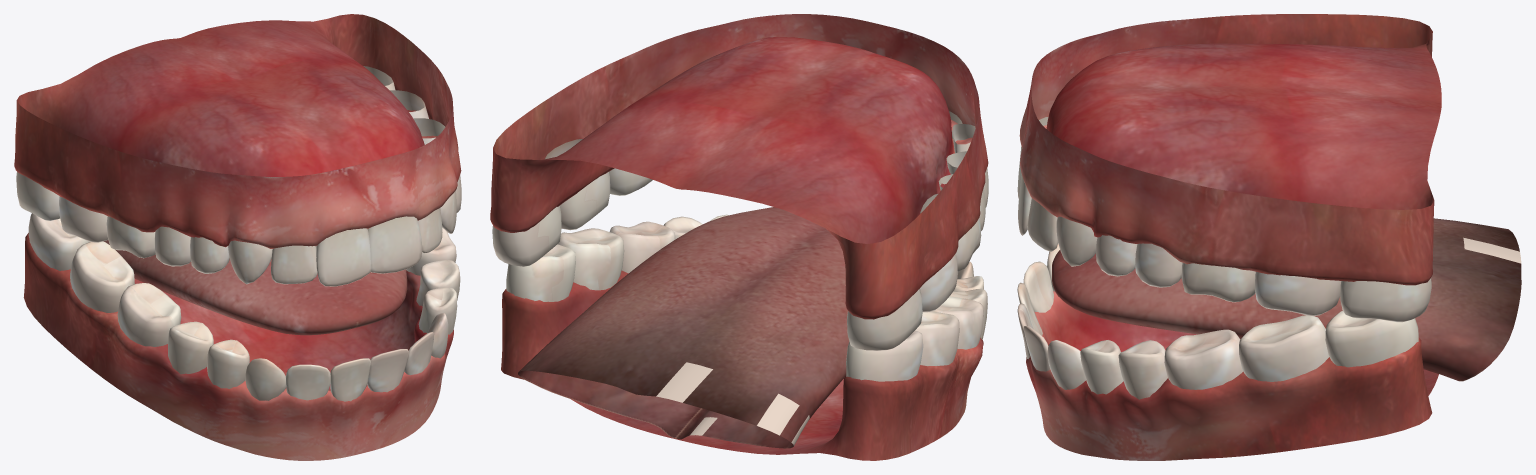
File: teeth.glb
3 views of the same model, side by side, from view 1: azimuth 30°, elevation 25°; view 2: azimuth 150°, elevation 25°; view 3: azimuth 270°, elevation 25° (orthographic). The views are drawn at different scales.
Visible parts, largest first — view 1: Object_5, Object_3, Object_6, Object_7, Object_8; view 2: Object_5, Object_8, Object_3, Object_6, Object_7, Object_4; view 3: Object_5, Object_3, Object_8, Object_6, Object_7, Object_4.
Part boxes in pixels (x1,y1,x2,y2): Object_5: [14, 14, 461, 248]; Object_3: [23, 233, 453, 460]; Object_6: [28, 213, 460, 401]; Object_7: [16, 66, 461, 286]; Object_8: [103, 240, 407, 335]; Object_5: [490, 14, 988, 319]; Object_8: [518, 207, 849, 448]; Object_3: [501, 270, 983, 460]; Object_6: [506, 214, 987, 381]; Object_7: [492, 111, 988, 350]; Object_4: [656, 362, 809, 446]; Object_5: [1019, 14, 1441, 285]; Object_3: [1026, 291, 1438, 460]; Object_8: [1052, 218, 1521, 381]; Object_6: [1017, 243, 1418, 399]; Object_7: [1017, 116, 1431, 322]; Object_4: [1463, 237, 1521, 263].
Bounding box in the file's own units: 2.17 × 1.71 × 2.34.
3 materials, 3 textured.
